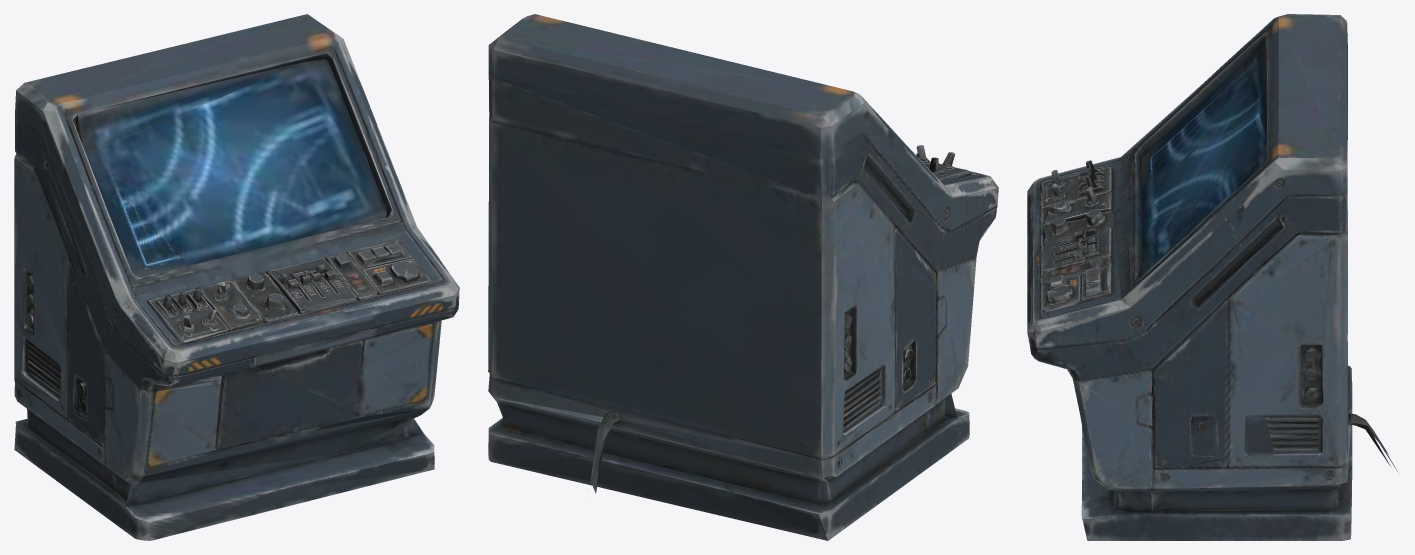
Rendered from bridgeconsole.glb.
The picture shows the model from 3 angles, left to right: view 1: azimuth 30°, elevation 25°; view 2: azimuth 150°, elevation 25°; view 3: azimuth 270°, elevation 25°; orthographic projection. The views are drawn at different scales.
Visible parts, largest first — view 1: Mesh_0; view 2: Mesh_0; view 3: Mesh_0.
Boxes of the visible parts, box(x1,y1,x2,y2) form: Mesh_0: box(14, 14, 459, 540); Mesh_0: box(488, 14, 998, 540); Mesh_0: box(1027, 14, 1398, 540).
Size of the model in its own units: 1.38 by 1.6 by 1.42.
Materials: 1 (1 with a texture image).
